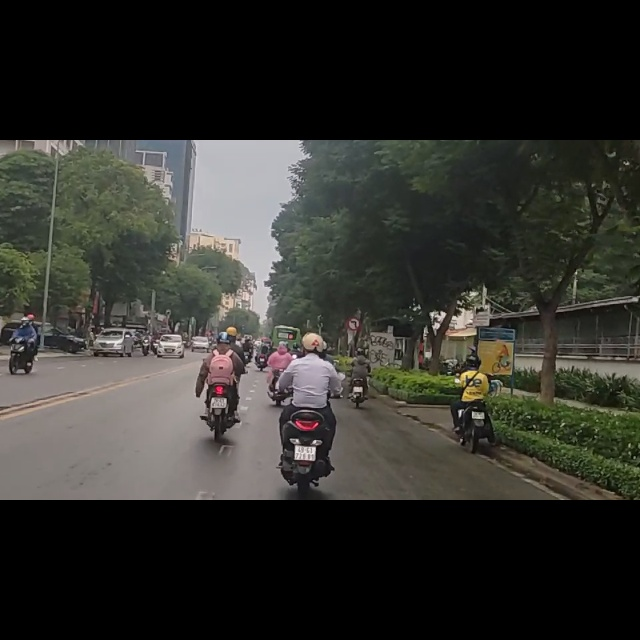Cấm rẽ trái: (347, 316, 360, 331)
